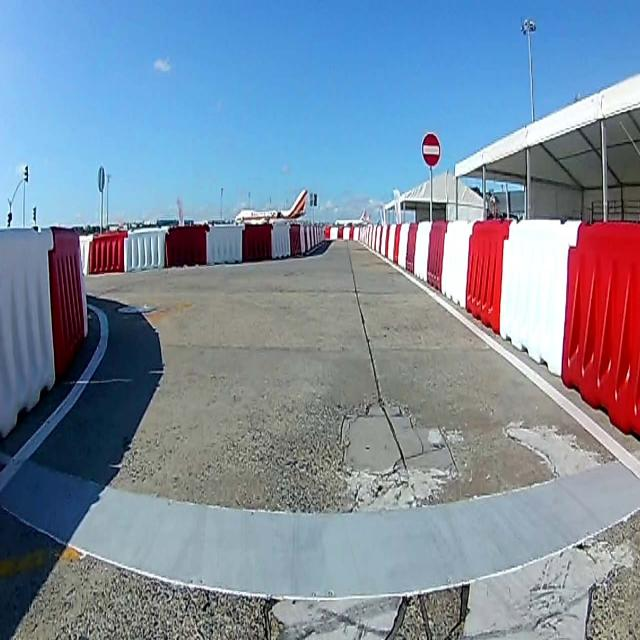girisyok: (421, 131, 442, 169)
